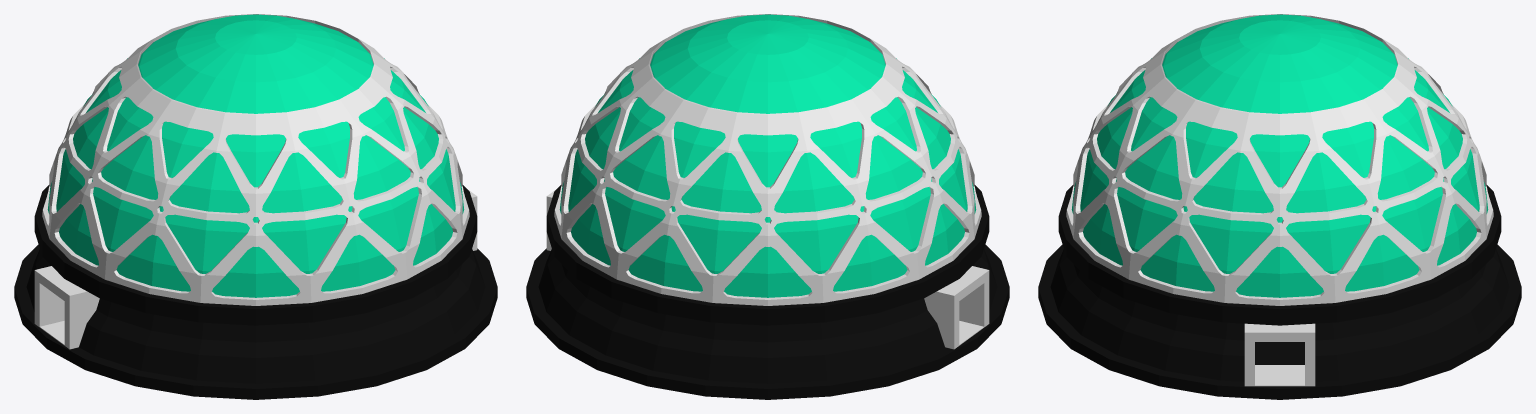
3 views of the same model, side by side, from view 1: azimuth 30°, elevation 25°; view 2: azimuth 150°, elevation 25°; view 3: azimuth 270°, elevation 25° (orthographic).
Parts seen in each view (by area): view 1: glass, Circle, Sphere.001, Cube; view 2: glass, Circle, Sphere.001, Cube; view 3: glass, Circle, Sphere.001, Cube.
Part boxes in pixels (<box>): glass: <box>47,14,464,297</box>; Circle: <box>14,185,497,399</box>; Sphere.001: <box>42,14,469,305</box>; Cube: <box>34,189,477,349</box>; glass: <box>559,14,976,297</box>; Circle: <box>526,185,1009,399</box>; Sphere.001: <box>554,14,981,305</box>; Cube: <box>546,189,989,349</box>; glass: <box>1071,14,1488,297</box>; Circle: <box>1038,185,1521,399</box>; Sphere.001: <box>1066,14,1493,305</box>; Cube: <box>1244,323,1315,386</box>.
Bounding box in the file's own units: 800 × 800 × 482.
